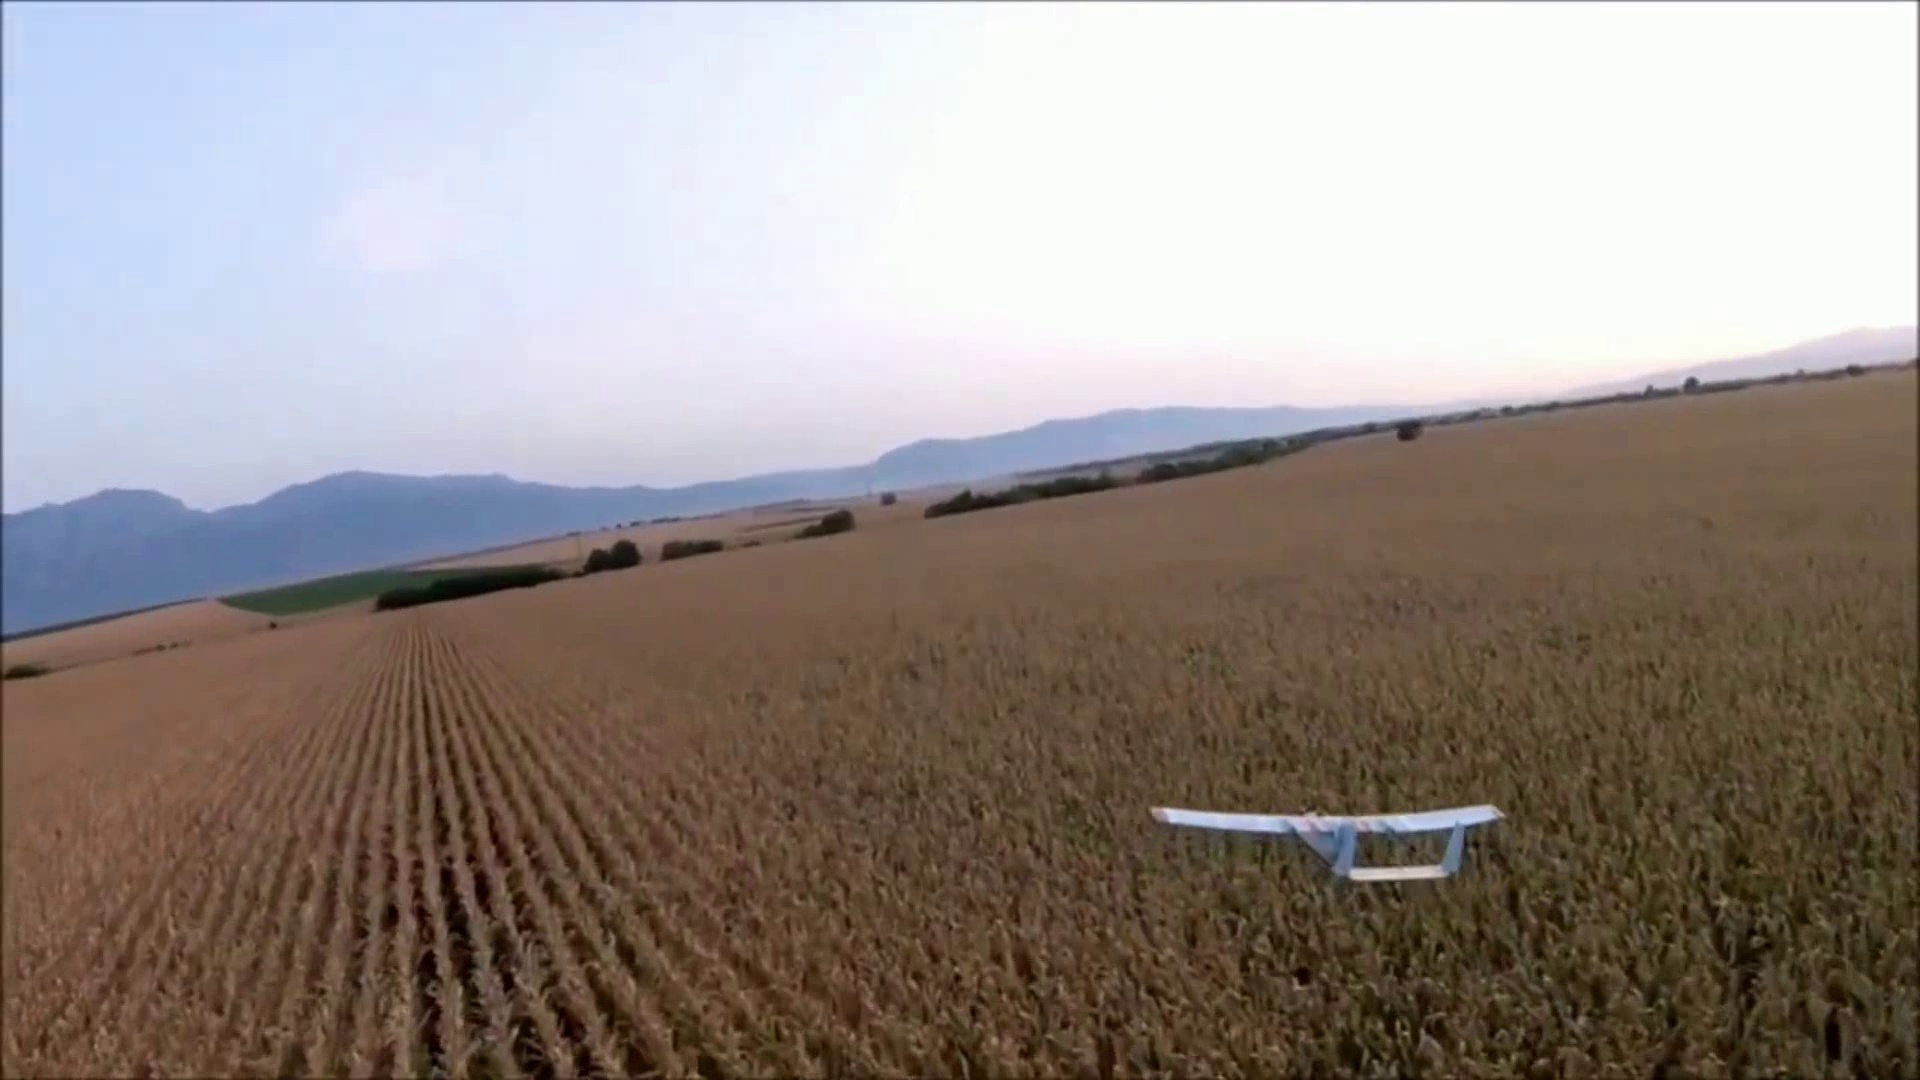airplane: (1151, 803, 1503, 884)
